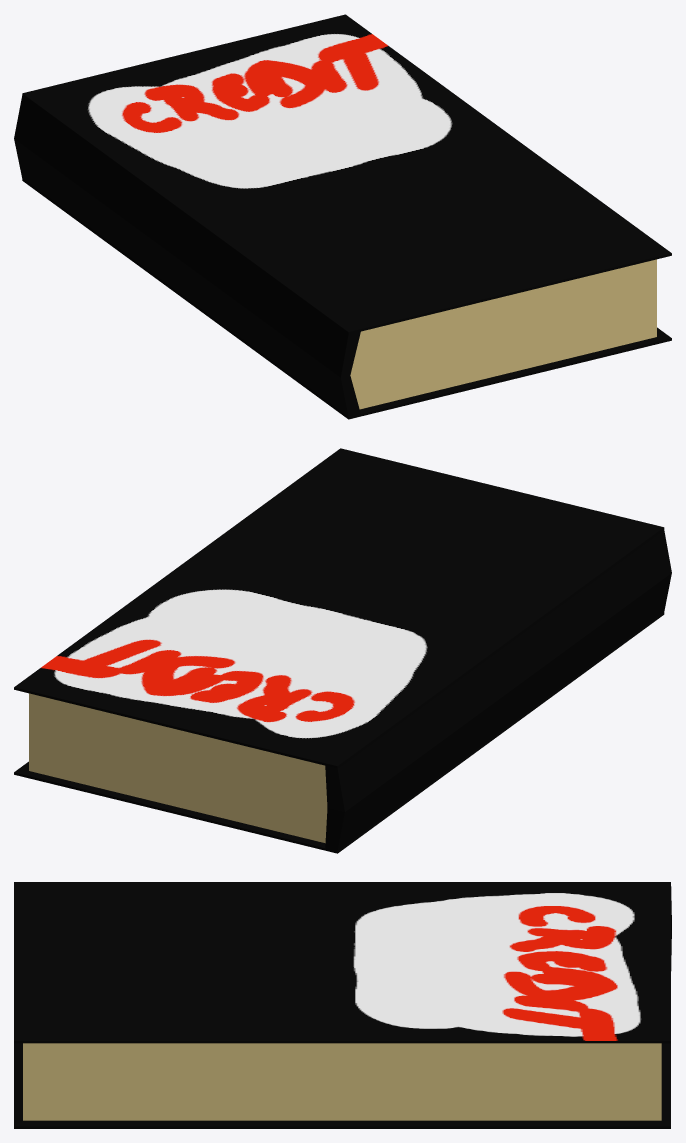
The model's file is book.fbx.
3 views of the same model, one above another, from view 1: azimuth 30°, elevation 25°; view 2: azimuth 150°, elevation 25°; view 3: azimuth 270°, elevation 25° (orthographic).
Visible parts, largest first — view 1: Cube; view 2: Cube; view 3: Cube.
Boxes of the visible parts, box(x1,y1,x2,y2) form: Cube: box(14, 14, 671, 419); Cube: box(14, 448, 671, 853); Cube: box(14, 882, 671, 1128).
Bounding box in the file's own units: 804 × 203 × 1374.
